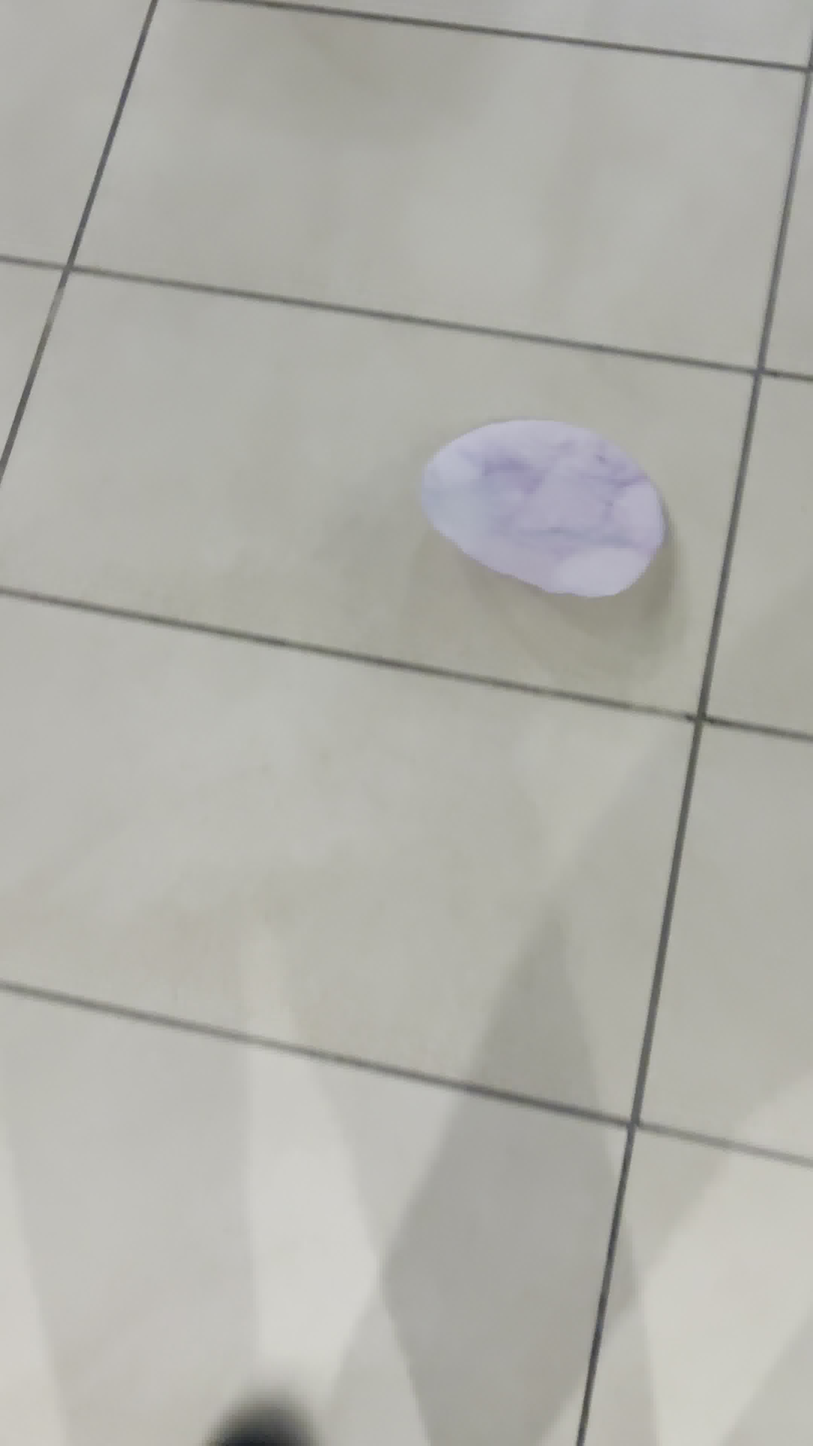Target: (409, 412, 674, 604)
